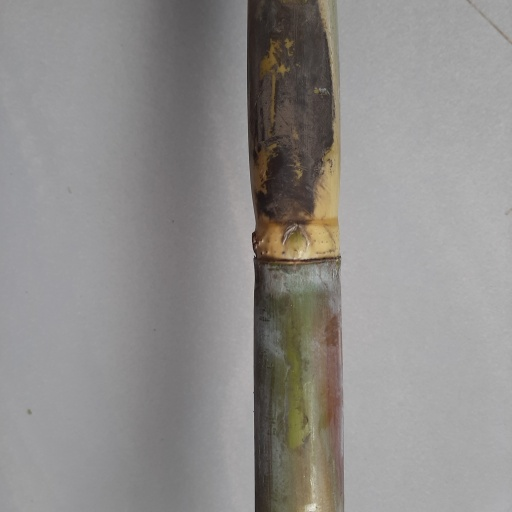Bud: (281, 225, 311, 259)
